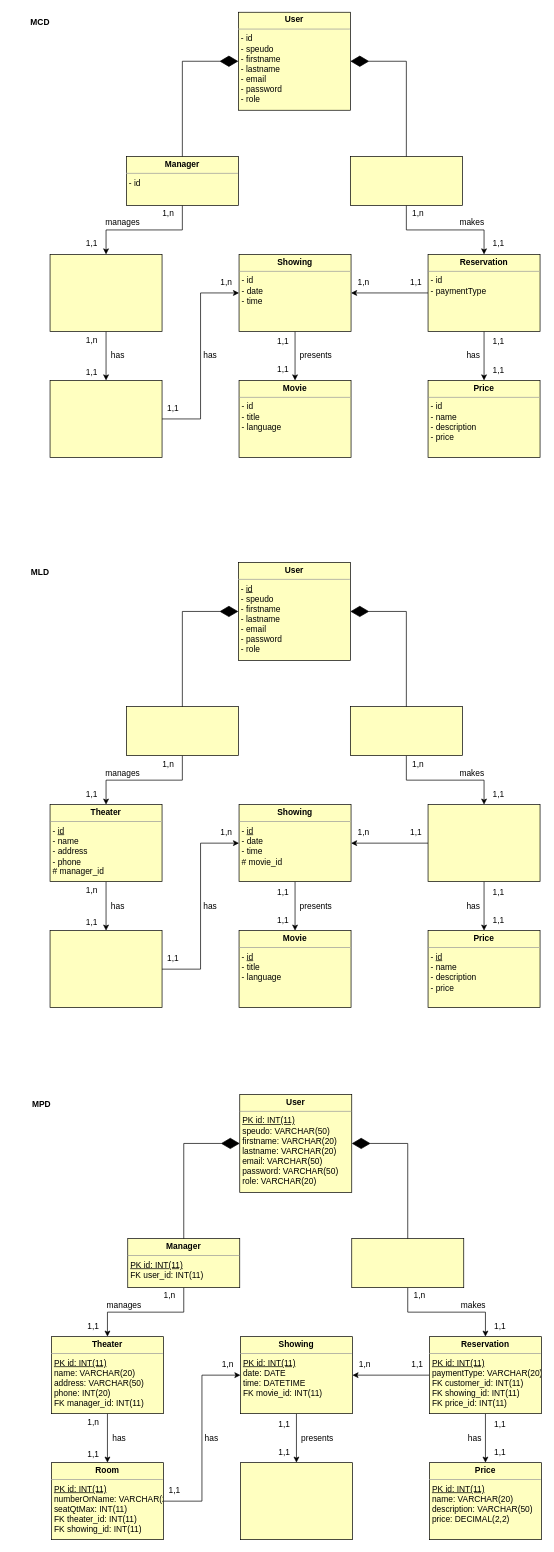
The diagram is 554 pixels wide and 1552 high, and some of its shapes have lost their labels. Each missing label, with the centre of its shape:
Customer - id: (x=406, y=180)
Customer - id # user_id: (x=406, y=731)
Customer PK id: INT(11) FK user_id: INT(11): (x=407, y=1263)
Manager - id # user_id: (x=182, y=731)
Movie PK id: INT(11) title: VARCHAR(20) language: VARCHAR(20): (x=296, y=1501)
Reservation - id - paymentType # customer_id # showing_id # price_id: (x=483, y=843)
Room - id - numberOrName - seatQtMax: (x=105, y=418)
Room - id - numberOrName - seatQtMax # theater_id # showing_id: (x=105, y=969)
Theater - id - name - address - phone: (x=105, y=292)
